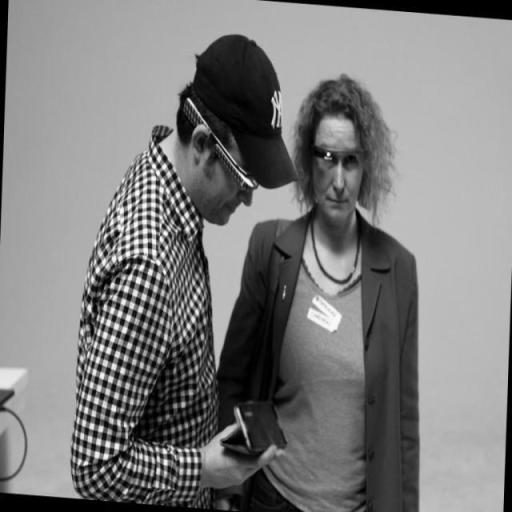phone: (236, 401, 295, 454), (213, 424, 249, 452)
